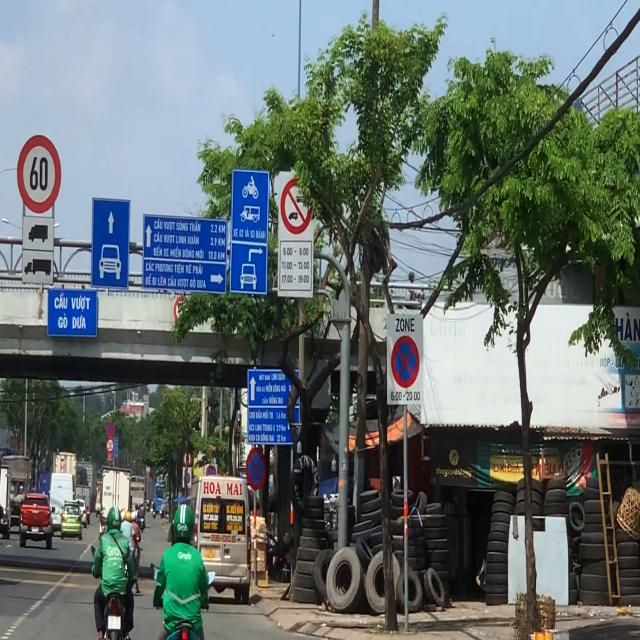Cam con lai: (280, 177, 312, 235)
Cam dung va do: (388, 336, 419, 392), (245, 446, 268, 491)
Toc do toi da: (13, 125, 68, 226)
